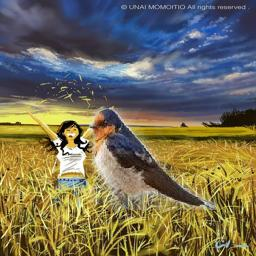Swallow: (90, 108, 217, 210)
